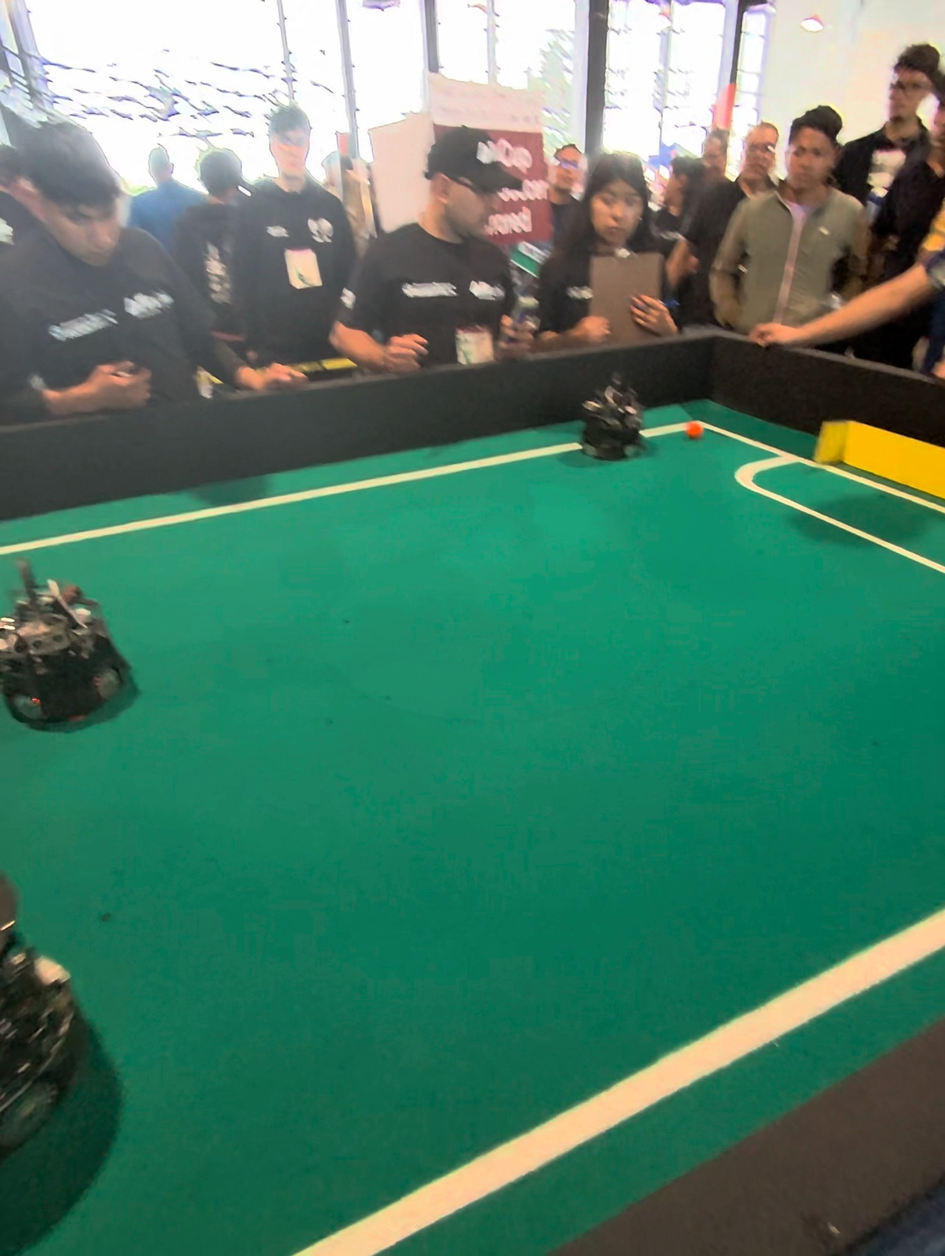Robot: (0, 846, 115, 1214), (2, 570, 140, 746), (576, 369, 649, 466), (685, 420, 705, 437)
